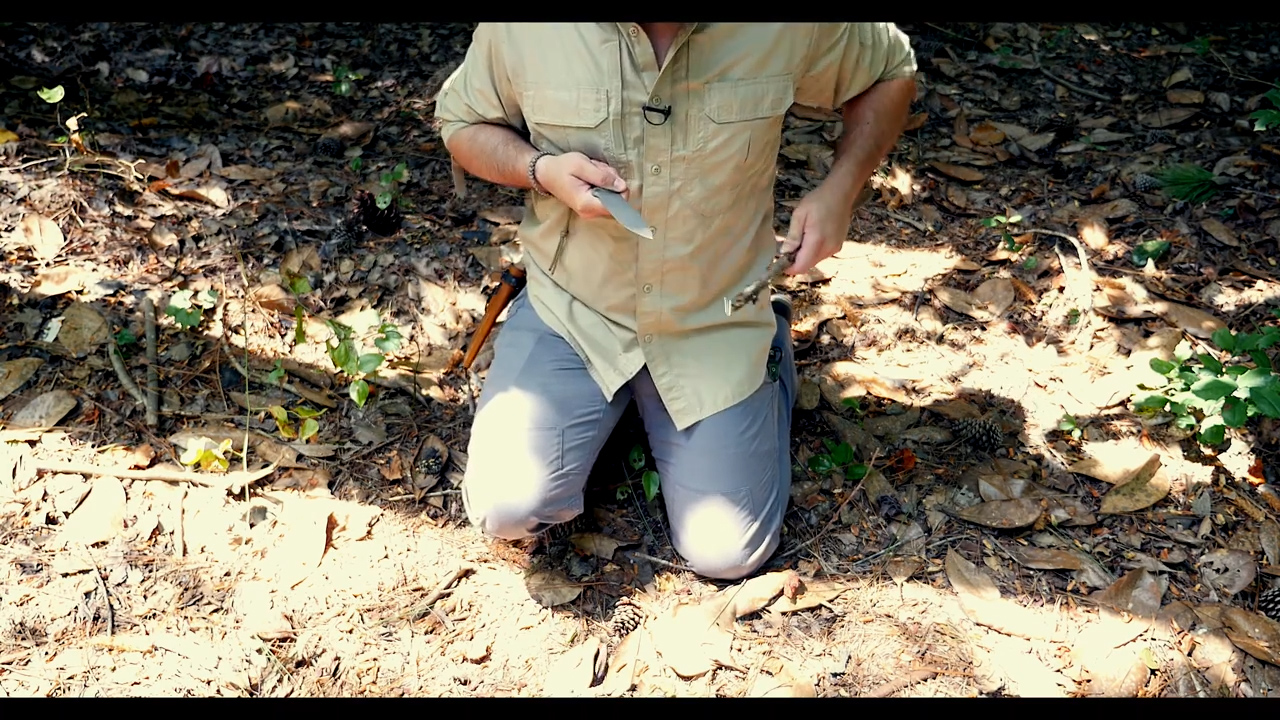knife: (546, 150, 661, 246)
